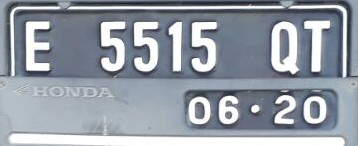plate: (7, 5, 348, 134)
